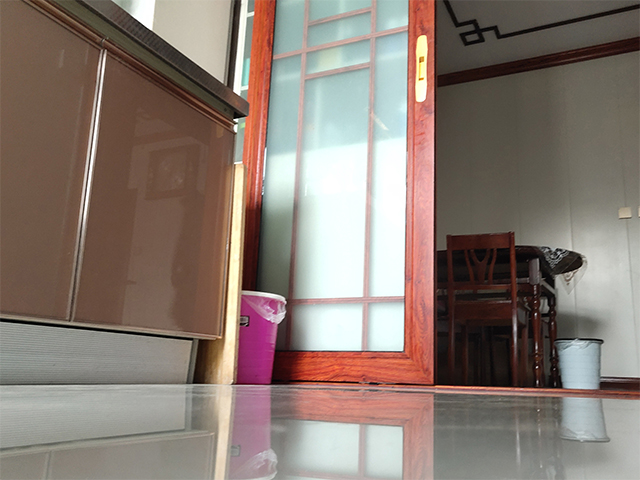bed: (1, 103, 517, 336)
stool: (470, 221, 545, 327)
trashcan: (234, 286, 288, 387), (552, 336, 607, 392)
